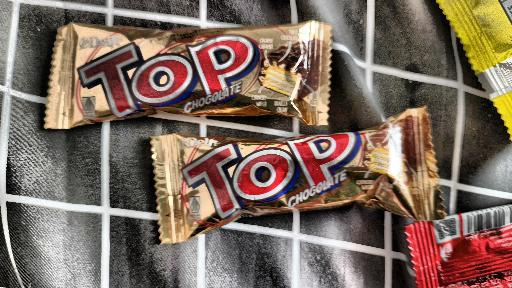top: (0, 0, 446, 207)
